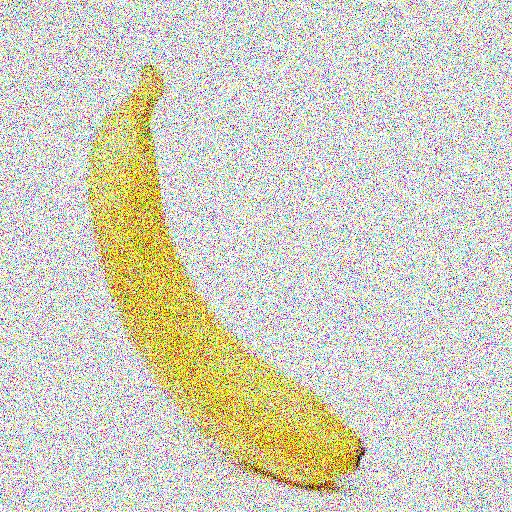fruit: (38, 79, 140, 352)
